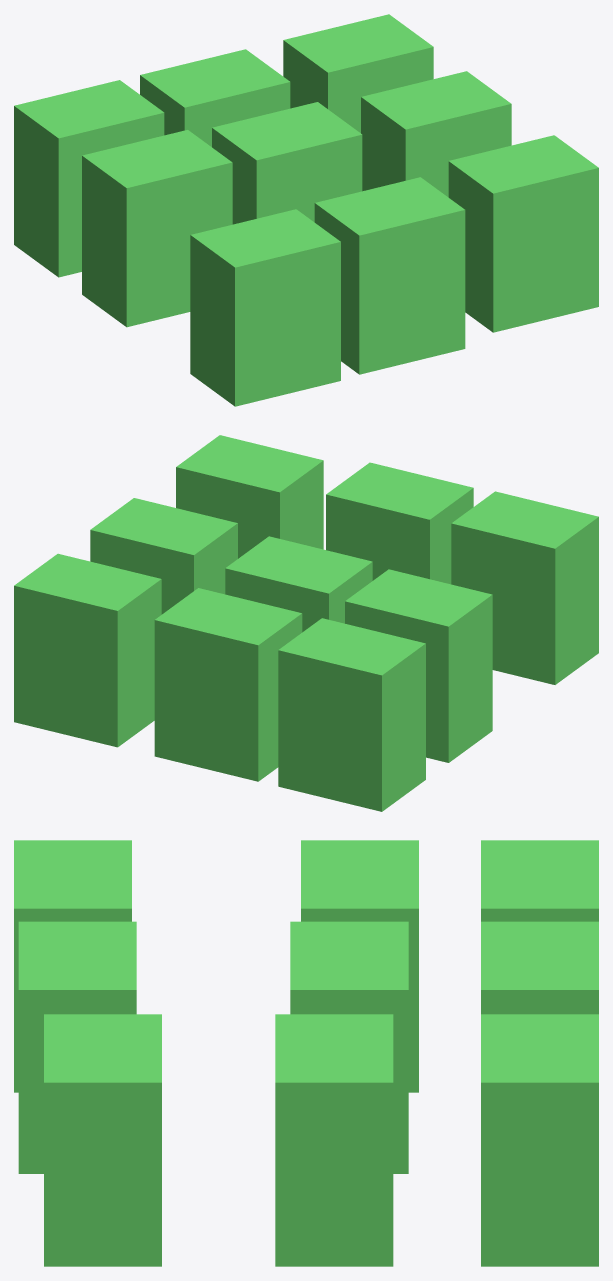
The model's file is wheat_1.glb.
The picture shows the model from 3 angles, top to bottom: view 1: azimuth 30°, elevation 25°; view 2: azimuth 150°, elevation 25°; view 3: azimuth 270°, elevation 25°; orthographic projection. The views are drawn at different scales.
Parts seen in each view (by area): view 1: Cube.009, Cube.007, Cube.008, Cube.003, Cube.001, Cube.006, Cube.004, Cube.005, Cube.002; view 2: Cube.001, Cube.005, Cube.002, Cube.009, Cube.003, Cube.008, Cube.007, Cube.006, Cube.004; view 3: Cube.006, Cube.005, Cube.007, Cube.008, Cube.004, Cube.003, Cube.002, Cube.009, Cube.001.
Part boxes in pixels (bbox=[...]): Cube.009: bbox=[190, 209, 340, 406]; Cube.007: bbox=[448, 135, 598, 332]; Cube.008: bbox=[314, 177, 465, 374]; Cube.003: bbox=[82, 130, 232, 327]; Cube.001: bbox=[14, 80, 164, 277]; Cube.006: bbox=[361, 71, 511, 197]; Cube.004: bbox=[212, 102, 362, 224]; Cube.005: bbox=[283, 14, 433, 132]; Cube.002: bbox=[140, 49, 290, 146]; Cube.001: bbox=[278, 618, 425, 811]; Cube.005: bbox=[14, 553, 161, 747]; Cube.002: bbox=[154, 588, 302, 781]; Cube.009: bbox=[451, 491, 598, 684]; Cube.003: bbox=[345, 569, 492, 762]; Cube.008: bbox=[326, 462, 473, 584]; Cube.007: bbox=[176, 435, 323, 558]; Cube.006: bbox=[90, 498, 237, 614]; Cube.004: bbox=[225, 536, 372, 632]; Cube.006: bbox=[275, 1014, 393, 1266]; Cube.005: bbox=[481, 1014, 598, 1266]; Cube.007: bbox=[44, 1014, 161, 1266]; Cube.008: bbox=[18, 921, 136, 1173]; Cube.004: bbox=[290, 921, 408, 1173]; Cube.003: bbox=[301, 840, 418, 1092]; Cube.002: bbox=[481, 921, 598, 1014]; Cube.009: bbox=[14, 840, 131, 1092]; Cube.001: bbox=[481, 840, 598, 921].
Bounding box in the file's own units: 0.7286 × 0.2581 × 0.7439.
